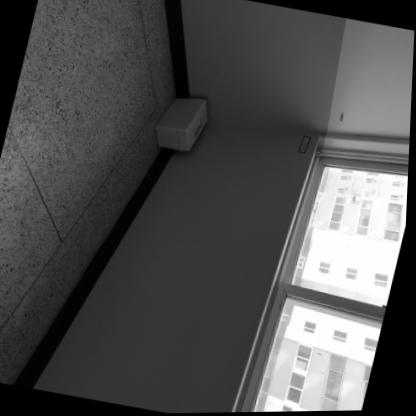DDL: (150, 90, 213, 156)
